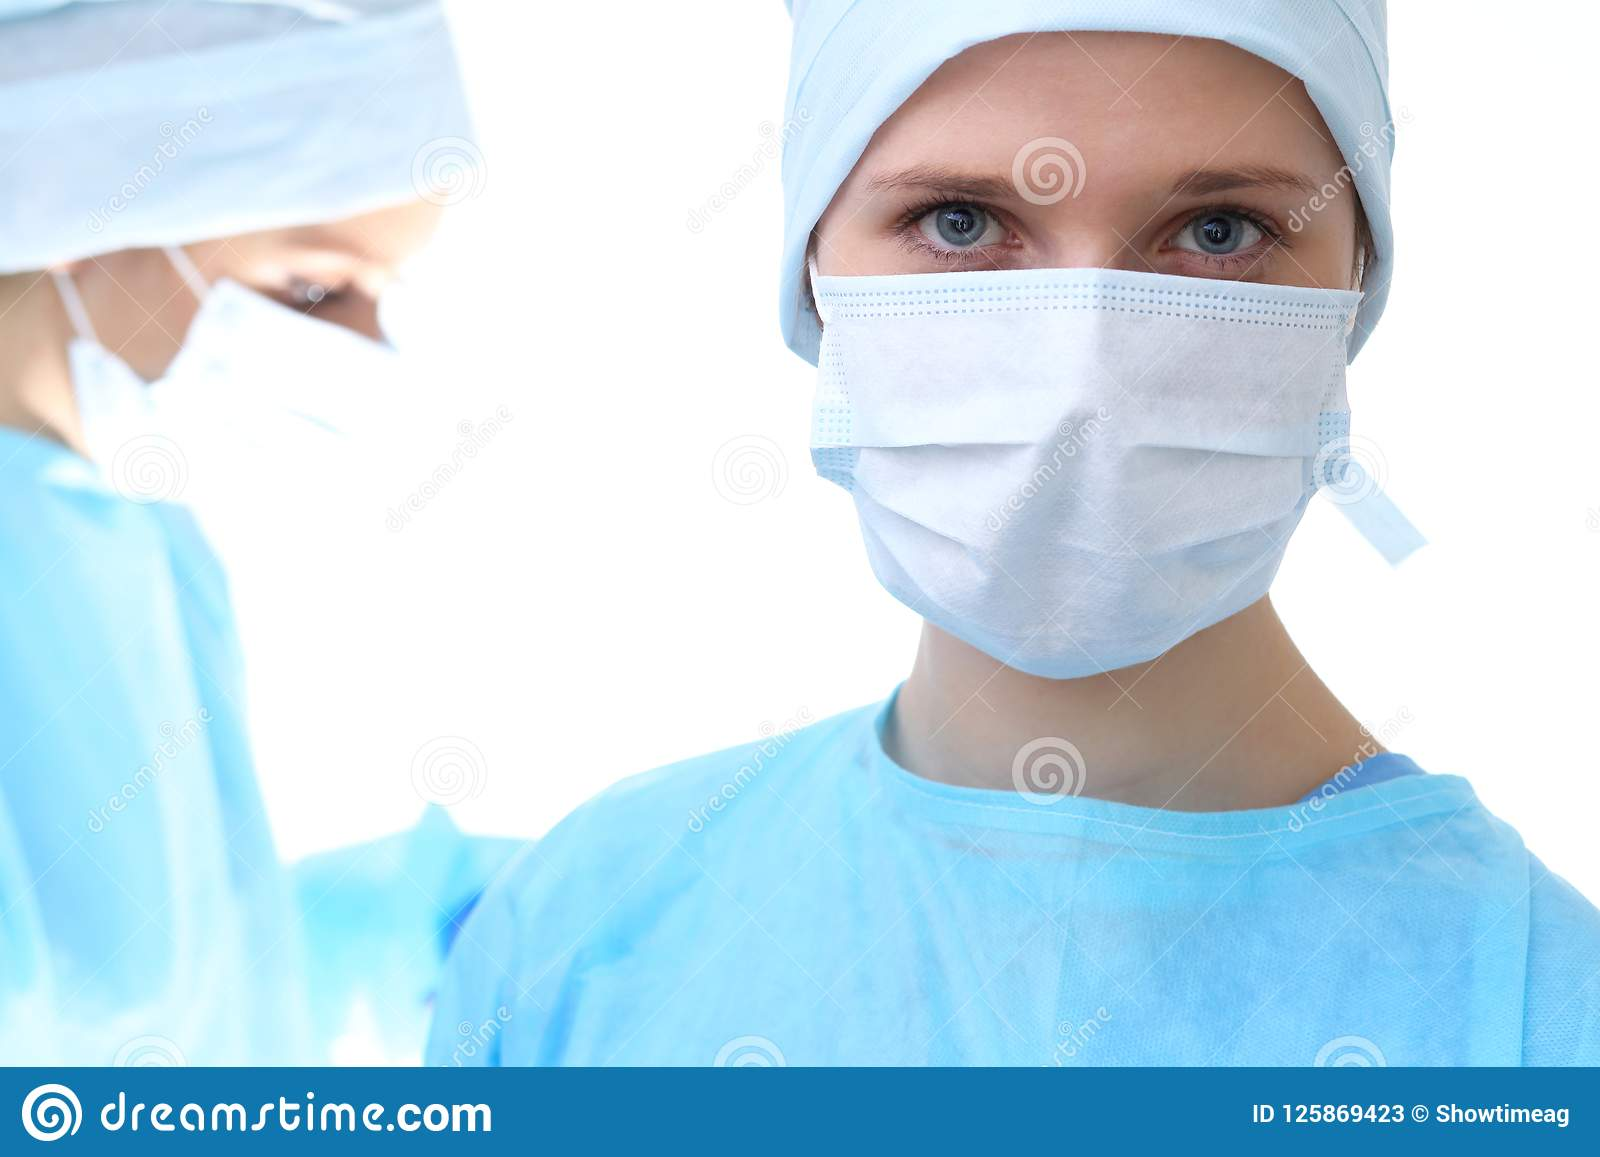mask: (817, 255, 1353, 647)
